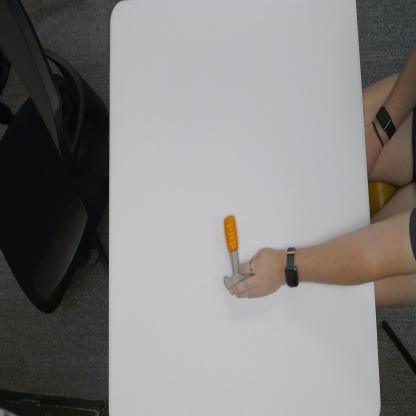Arm: (300, 224, 373, 289)
Hammer: (222, 215, 253, 295)
Hand: (232, 246, 285, 300)
